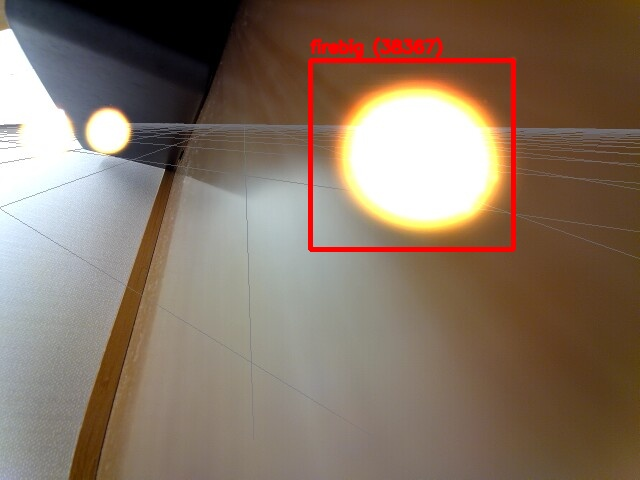firebig: (310, 60, 513, 249)
